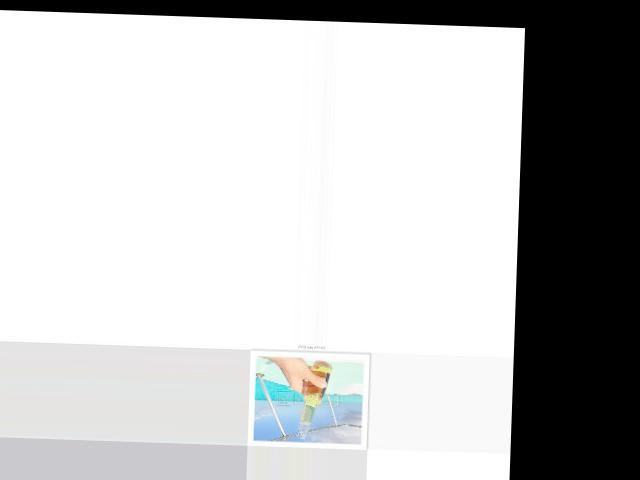beer: (294, 360, 333, 438)
